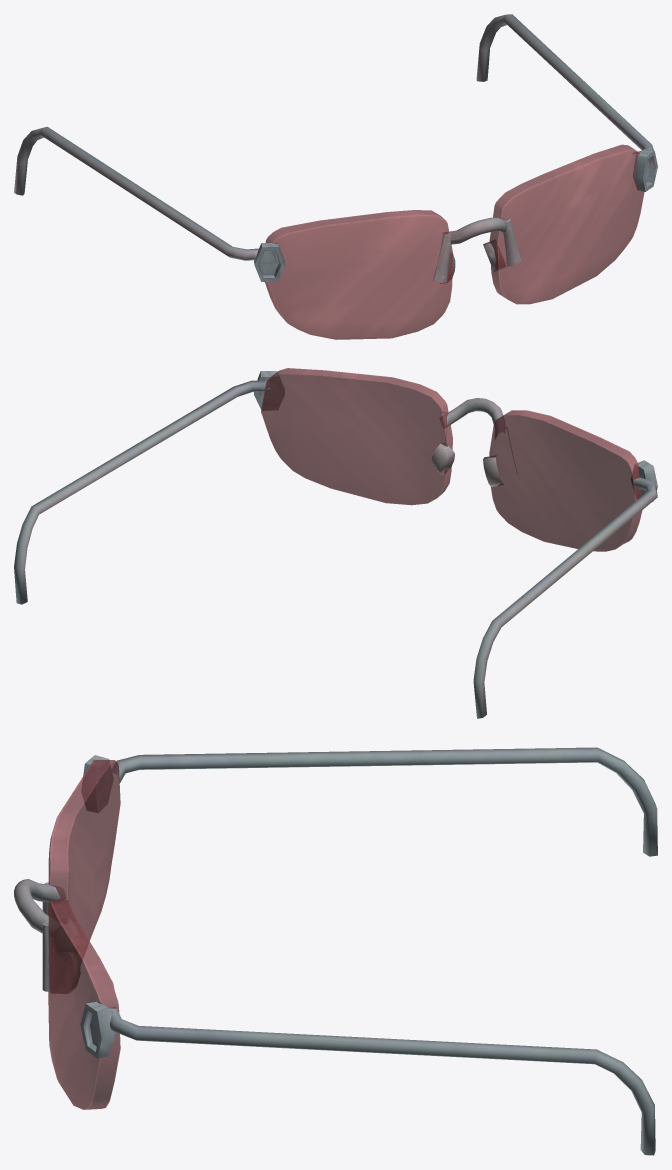
The model's file is glasses.glb.
3 views of the same model, one above another, from view 1: azimuth 30°, elevation 25°; view 2: azimuth 150°, elevation 25°; view 3: azimuth 270°, elevation 25° (orthographic). The views are drawn at different scales.
Parts seen in each view (by area): view 1: Wolf3D_Glasses; view 2: Wolf3D_Glasses; view 3: Wolf3D_Glasses.
Part boxes in pixels (x1,y1,x2,y2): Wolf3D_Glasses: [14, 14, 657, 339]; Wolf3D_Glasses: [14, 368, 657, 718]; Wolf3D_Glasses: [14, 747, 657, 1155].
Size of the model in its own units: 0.1657 by 0.0402 by 0.1446.
1 material, 1 textured.
